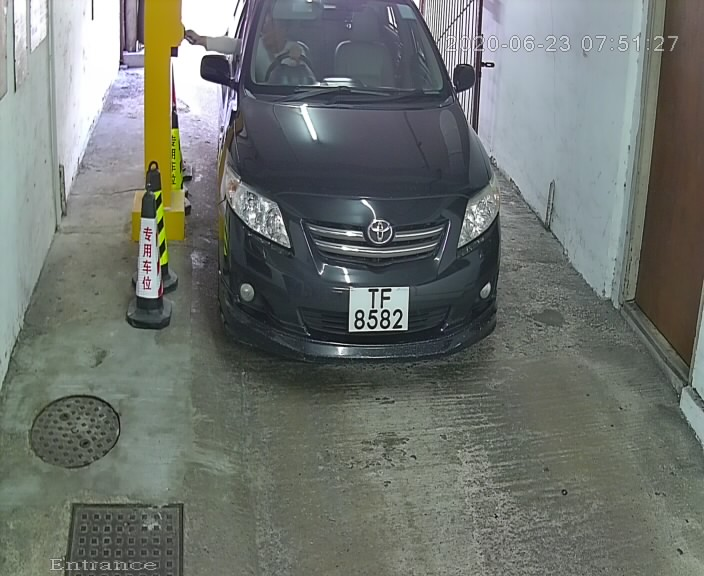privatecar: (190, 1, 524, 379)
